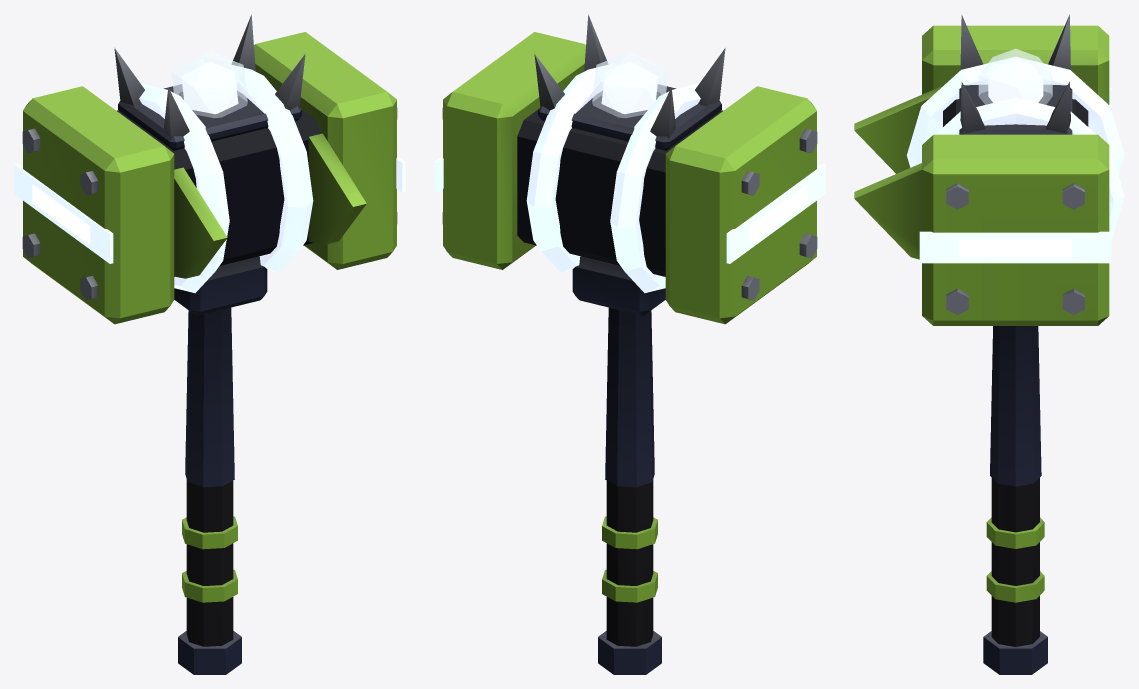
The model's file is Hammer.glb.
3 renders of one model, left to right at view 1: azimuth 30°, elevation 25°; view 2: azimuth 150°, elevation 25°; view 3: azimuth 270°, elevation 25°, orthographic.
Visible parts, largest first — view 1: Body, Halo_Glow, Accent_Glow; view 2: Body, Halo_Glow, Accent_Glow; view 3: Body, Halo_Glow, Accent_Glow.
Boxes of the visible parts, bbox=[...] form: Body: bbox=[22, 14, 397, 674]; Halo_Glow: bbox=[14, 51, 405, 293]; Accent_Glow: bbox=[32, 62, 238, 243]; Body: bbox=[442, 14, 817, 674]; Halo_Glow: bbox=[434, 51, 825, 293]; Accent_Glow: bbox=[601, 62, 807, 243]; Body: bbox=[854, 14, 1109, 674]; Halo_Glow: bbox=[906, 48, 1124, 263]; Accent_Glow: bbox=[959, 59, 1072, 257].
Size of the model in its own units: 2.2 by 4.21 by 1.67.
